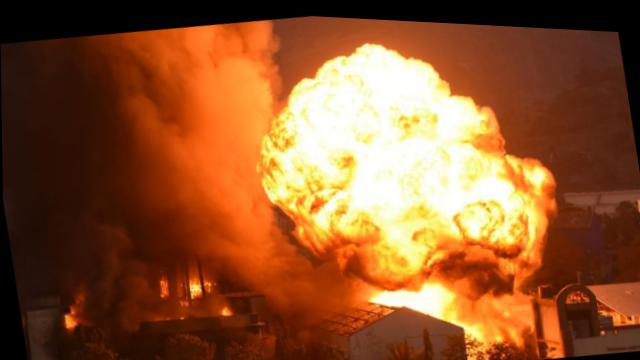fire: (254, 108, 418, 202), (383, 167, 556, 256), (407, 96, 515, 187), (271, 184, 389, 264), (278, 70, 404, 130), (306, 29, 424, 87), (330, 243, 426, 286), (371, 277, 446, 316), (400, 68, 453, 116), (514, 150, 554, 181)
smoke: (0, 21, 201, 225), (177, 17, 272, 268), (466, 19, 623, 96), (236, 15, 285, 128), (130, 192, 209, 257), (217, 252, 319, 295), (269, 276, 351, 323), (480, 282, 534, 320), (445, 246, 498, 284), (497, 248, 537, 283)
